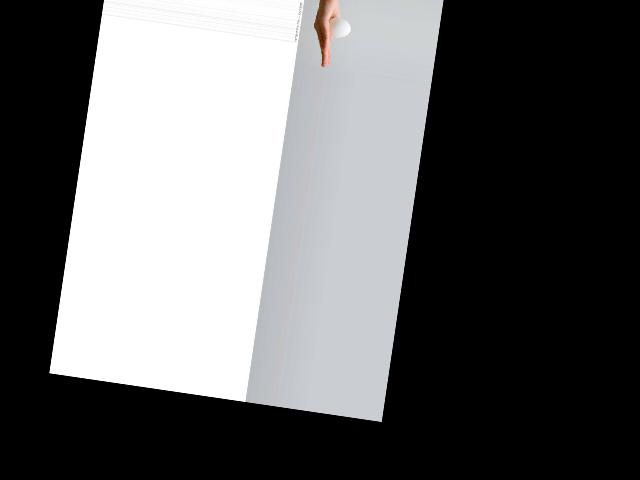egg: (326, 17, 351, 38)
